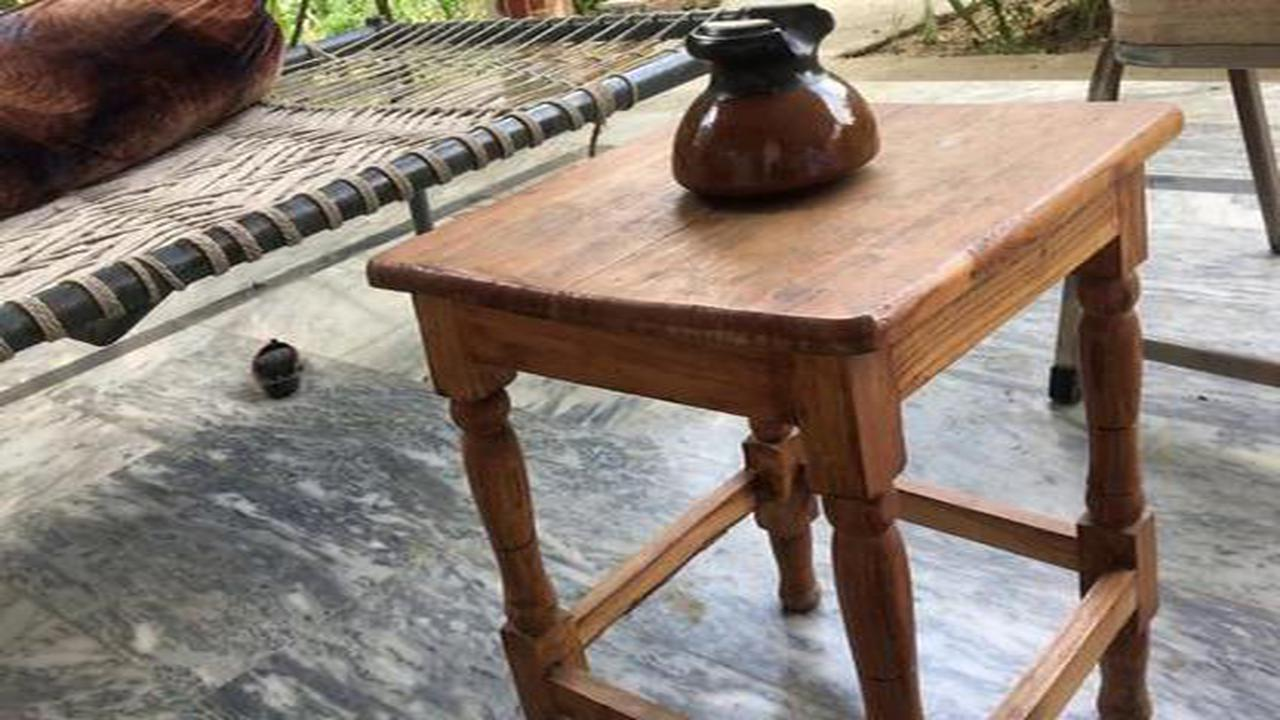insulator_pin: (650, 4, 893, 217)
